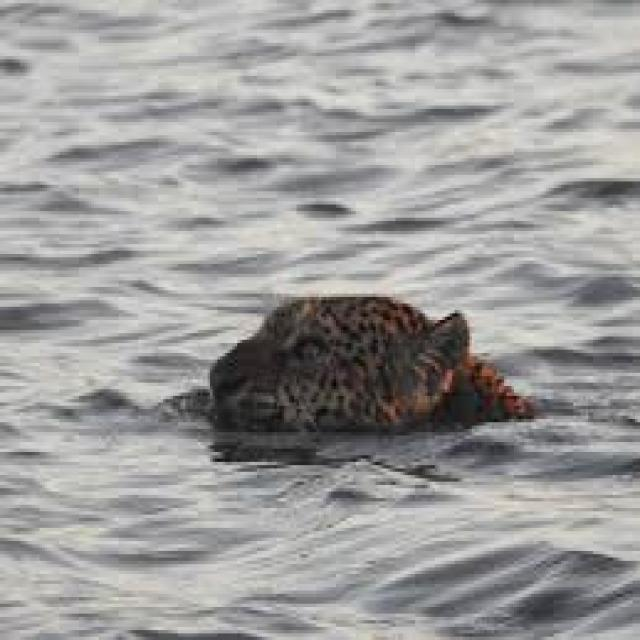Jaguar: (205, 290, 551, 439)
